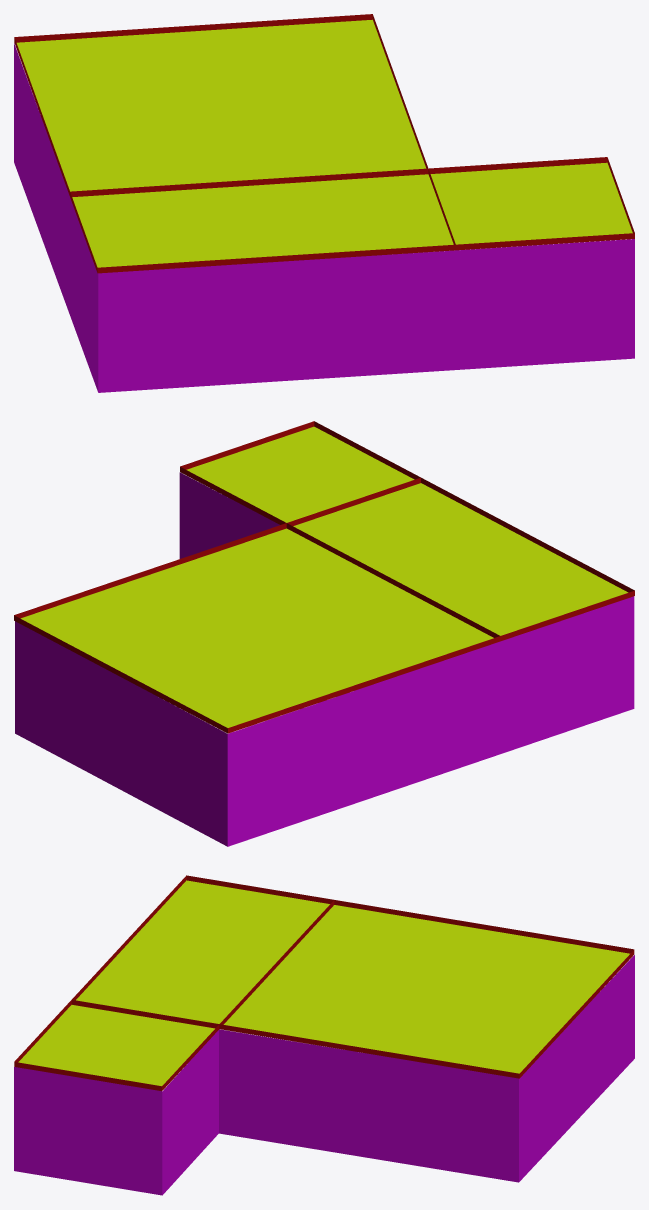
File: ssv_54.glb
The picture shows the model from 3 angles, top to bottom: view 1: azimuth 30°, elevation 25°; view 2: azimuth 150°, elevation 25°; view 3: azimuth 270°, elevation 25°; orthographic projection. The views are drawn at different scales.
Parts seen in each view (by area): view 1: ssv_54; view 2: ssv_54; view 3: ssv_54.
Part boxes in pixels (x1,y1,x2,y2): ssv_54: [14, 14, 634, 392]; ssv_54: [14, 421, 634, 846]; ssv_54: [14, 875, 634, 1195].
Bounding box in the file's own units: 31.61 × 7.64 × 39.34.
